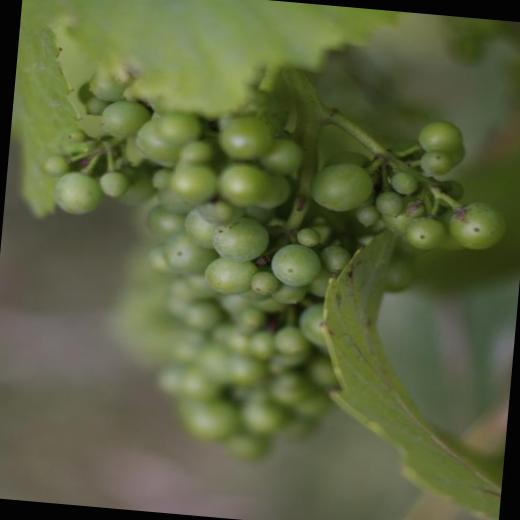Orange: (20, 73, 517, 477)
